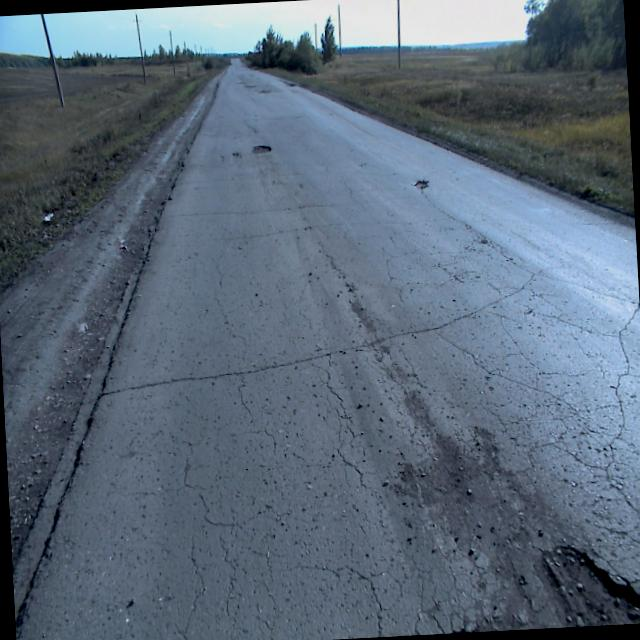road: (13, 57, 640, 640)
